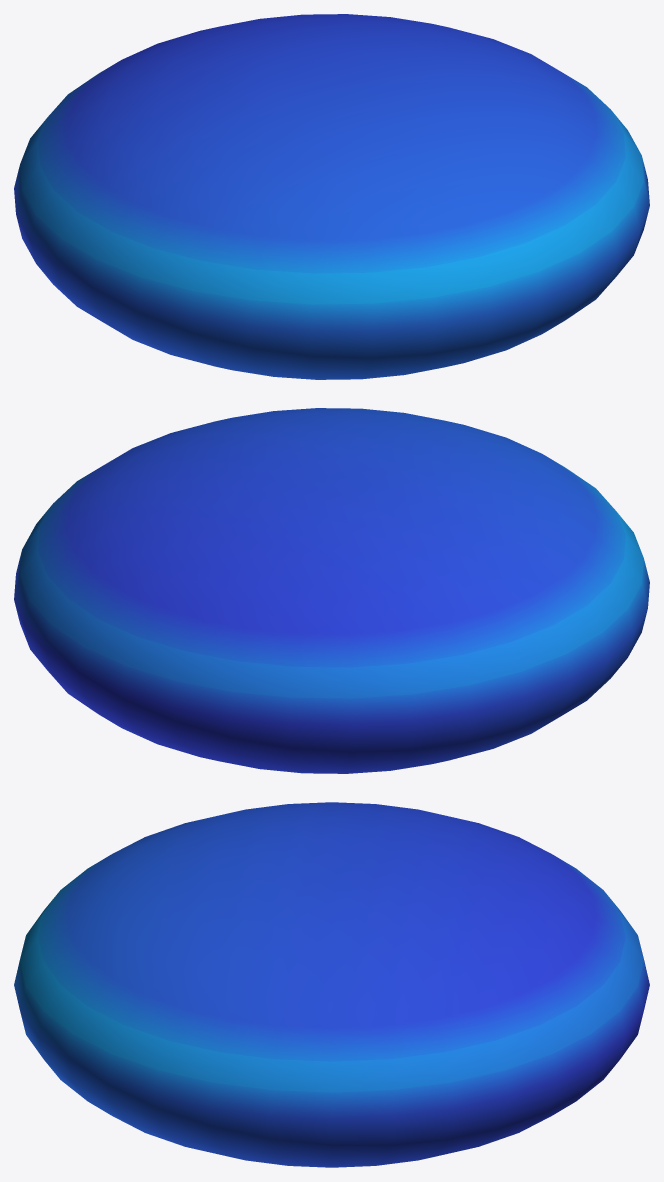
File: Bonibon_01.fbx
The picture shows the model from 3 angles, top to bottom: view 1: azimuth 30°, elevation 25°; view 2: azimuth 150°, elevation 25°; view 3: azimuth 270°, elevation 25°; orthographic projection.
Visible parts, largest first — view 1: Bonibon_01; view 2: Bonibon_01; view 3: Bonibon_01.
Part boxes in pixels (left/top/right/bottom): Bonibon_01: left=14, top=14, right=649, bottom=379; Bonibon_01: left=14, top=408, right=649, bottom=773; Bonibon_01: left=14, top=802, right=649, bottom=1167.
Bounding box in the file's own units: 113 × 47.58 × 113.
